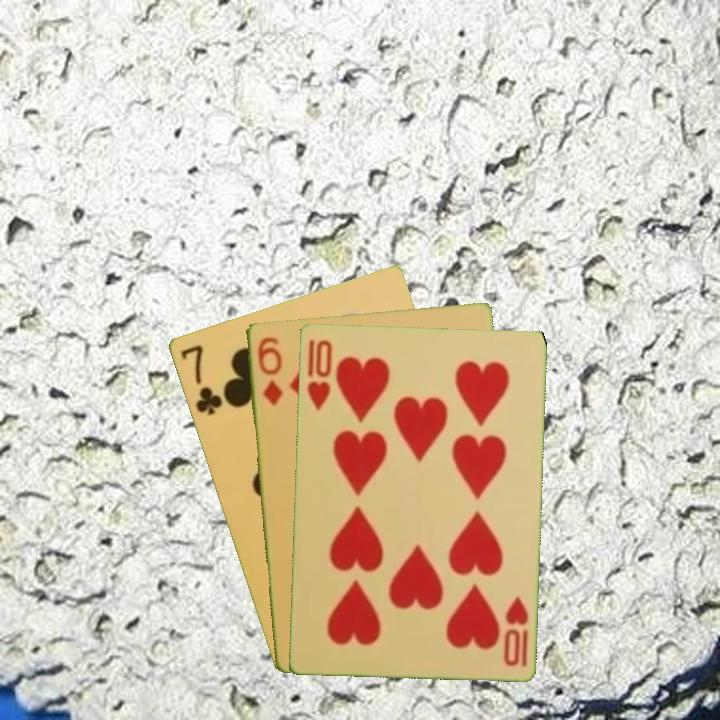10h: (303, 335, 335, 413), (499, 593, 531, 669)
6d: (253, 333, 285, 408)
7c: (177, 341, 225, 418)
